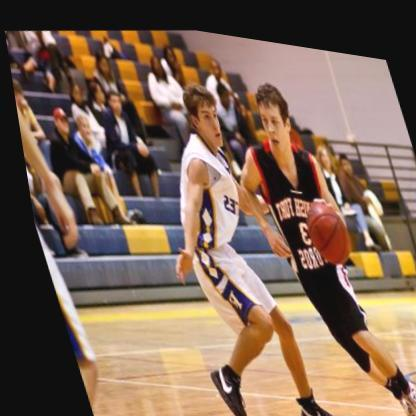basketball: (293, 186, 351, 257)
